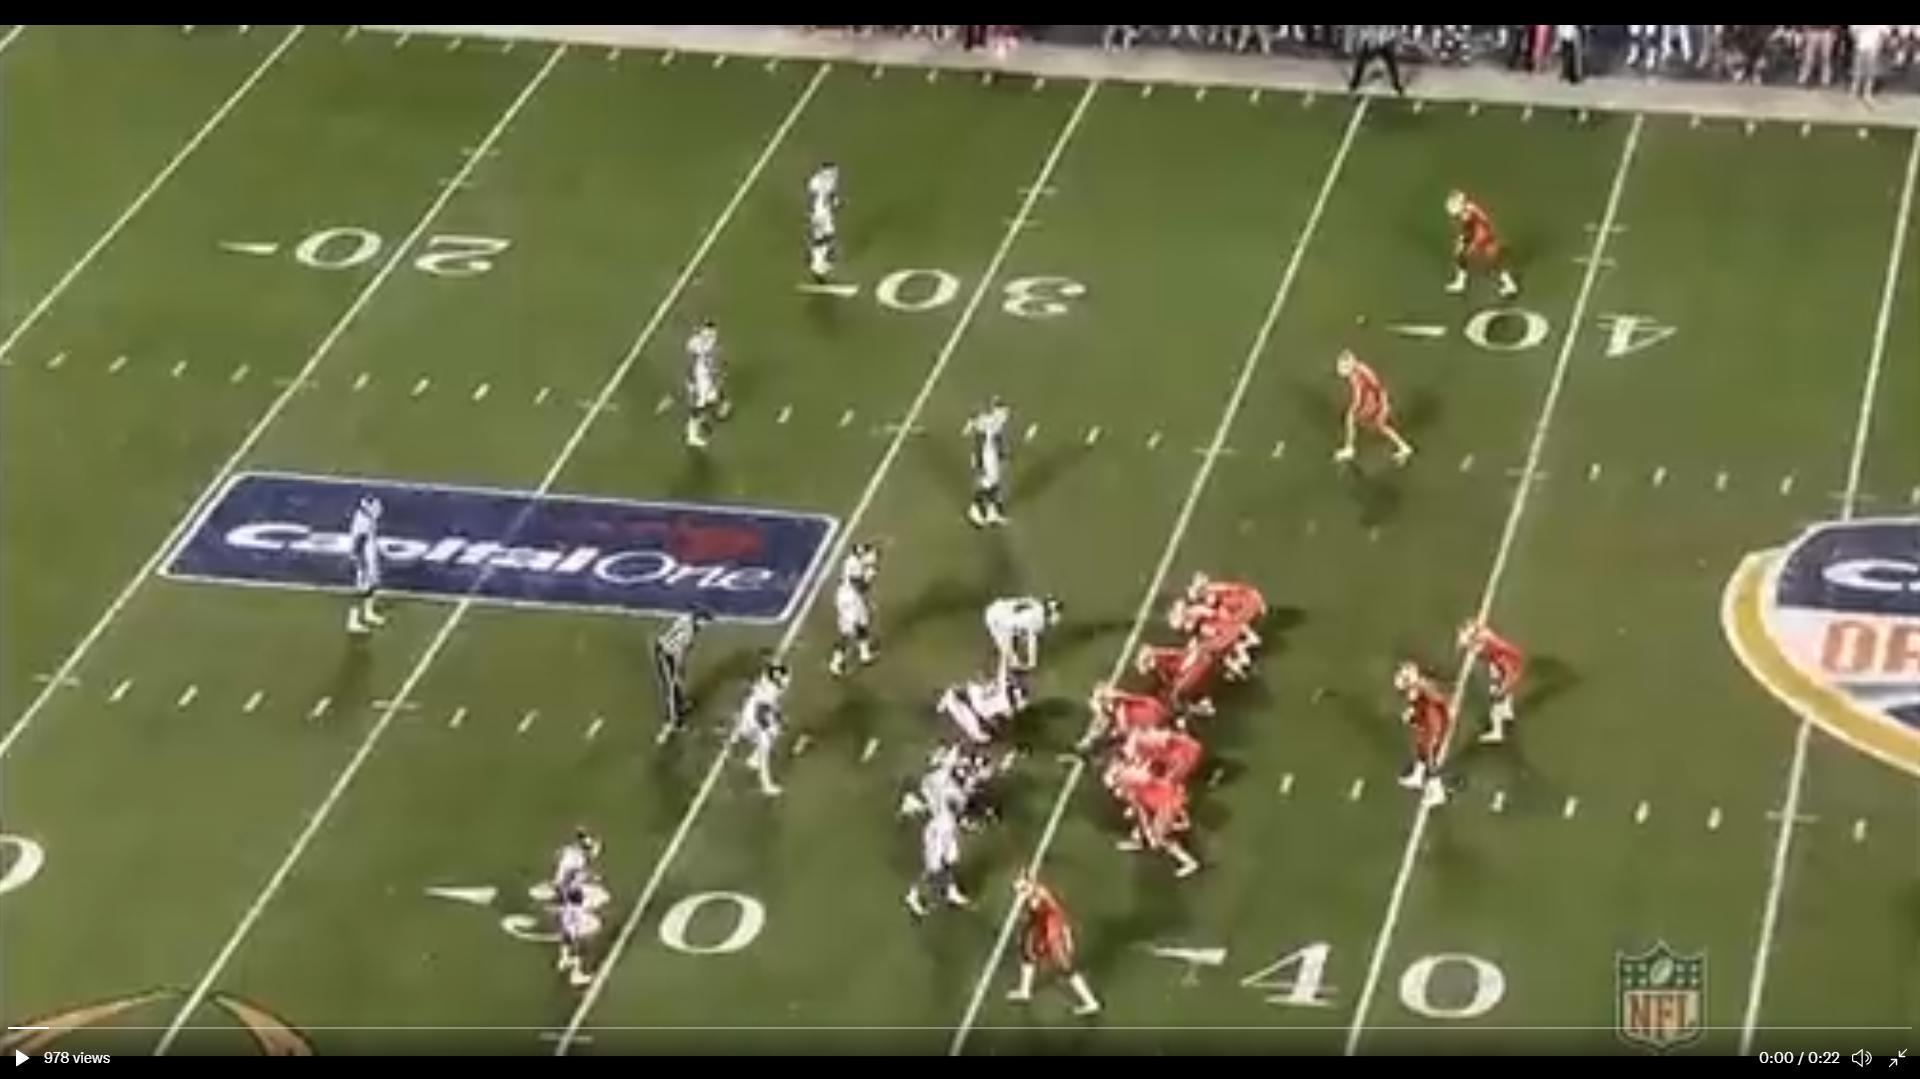player: (1014, 876, 1105, 1017), (899, 779, 975, 924), (1330, 349, 1417, 473), (1106, 765, 1194, 885), (547, 825, 607, 995), (1443, 185, 1522, 307), (985, 593, 1067, 704), (942, 680, 1033, 779), (898, 751, 1003, 834), (1463, 616, 1526, 749), (1392, 658, 1451, 796), (971, 396, 1025, 539), (1126, 724, 1205, 819), (828, 538, 882, 676), (1134, 644, 1220, 730), (341, 489, 387, 641), (736, 673, 788, 804), (679, 322, 729, 452), (1167, 601, 1245, 683), (1078, 685, 1169, 754), (1186, 573, 1264, 653), (808, 152, 849, 283)
ref: (652, 606, 702, 741), (1341, 27, 1413, 106)
